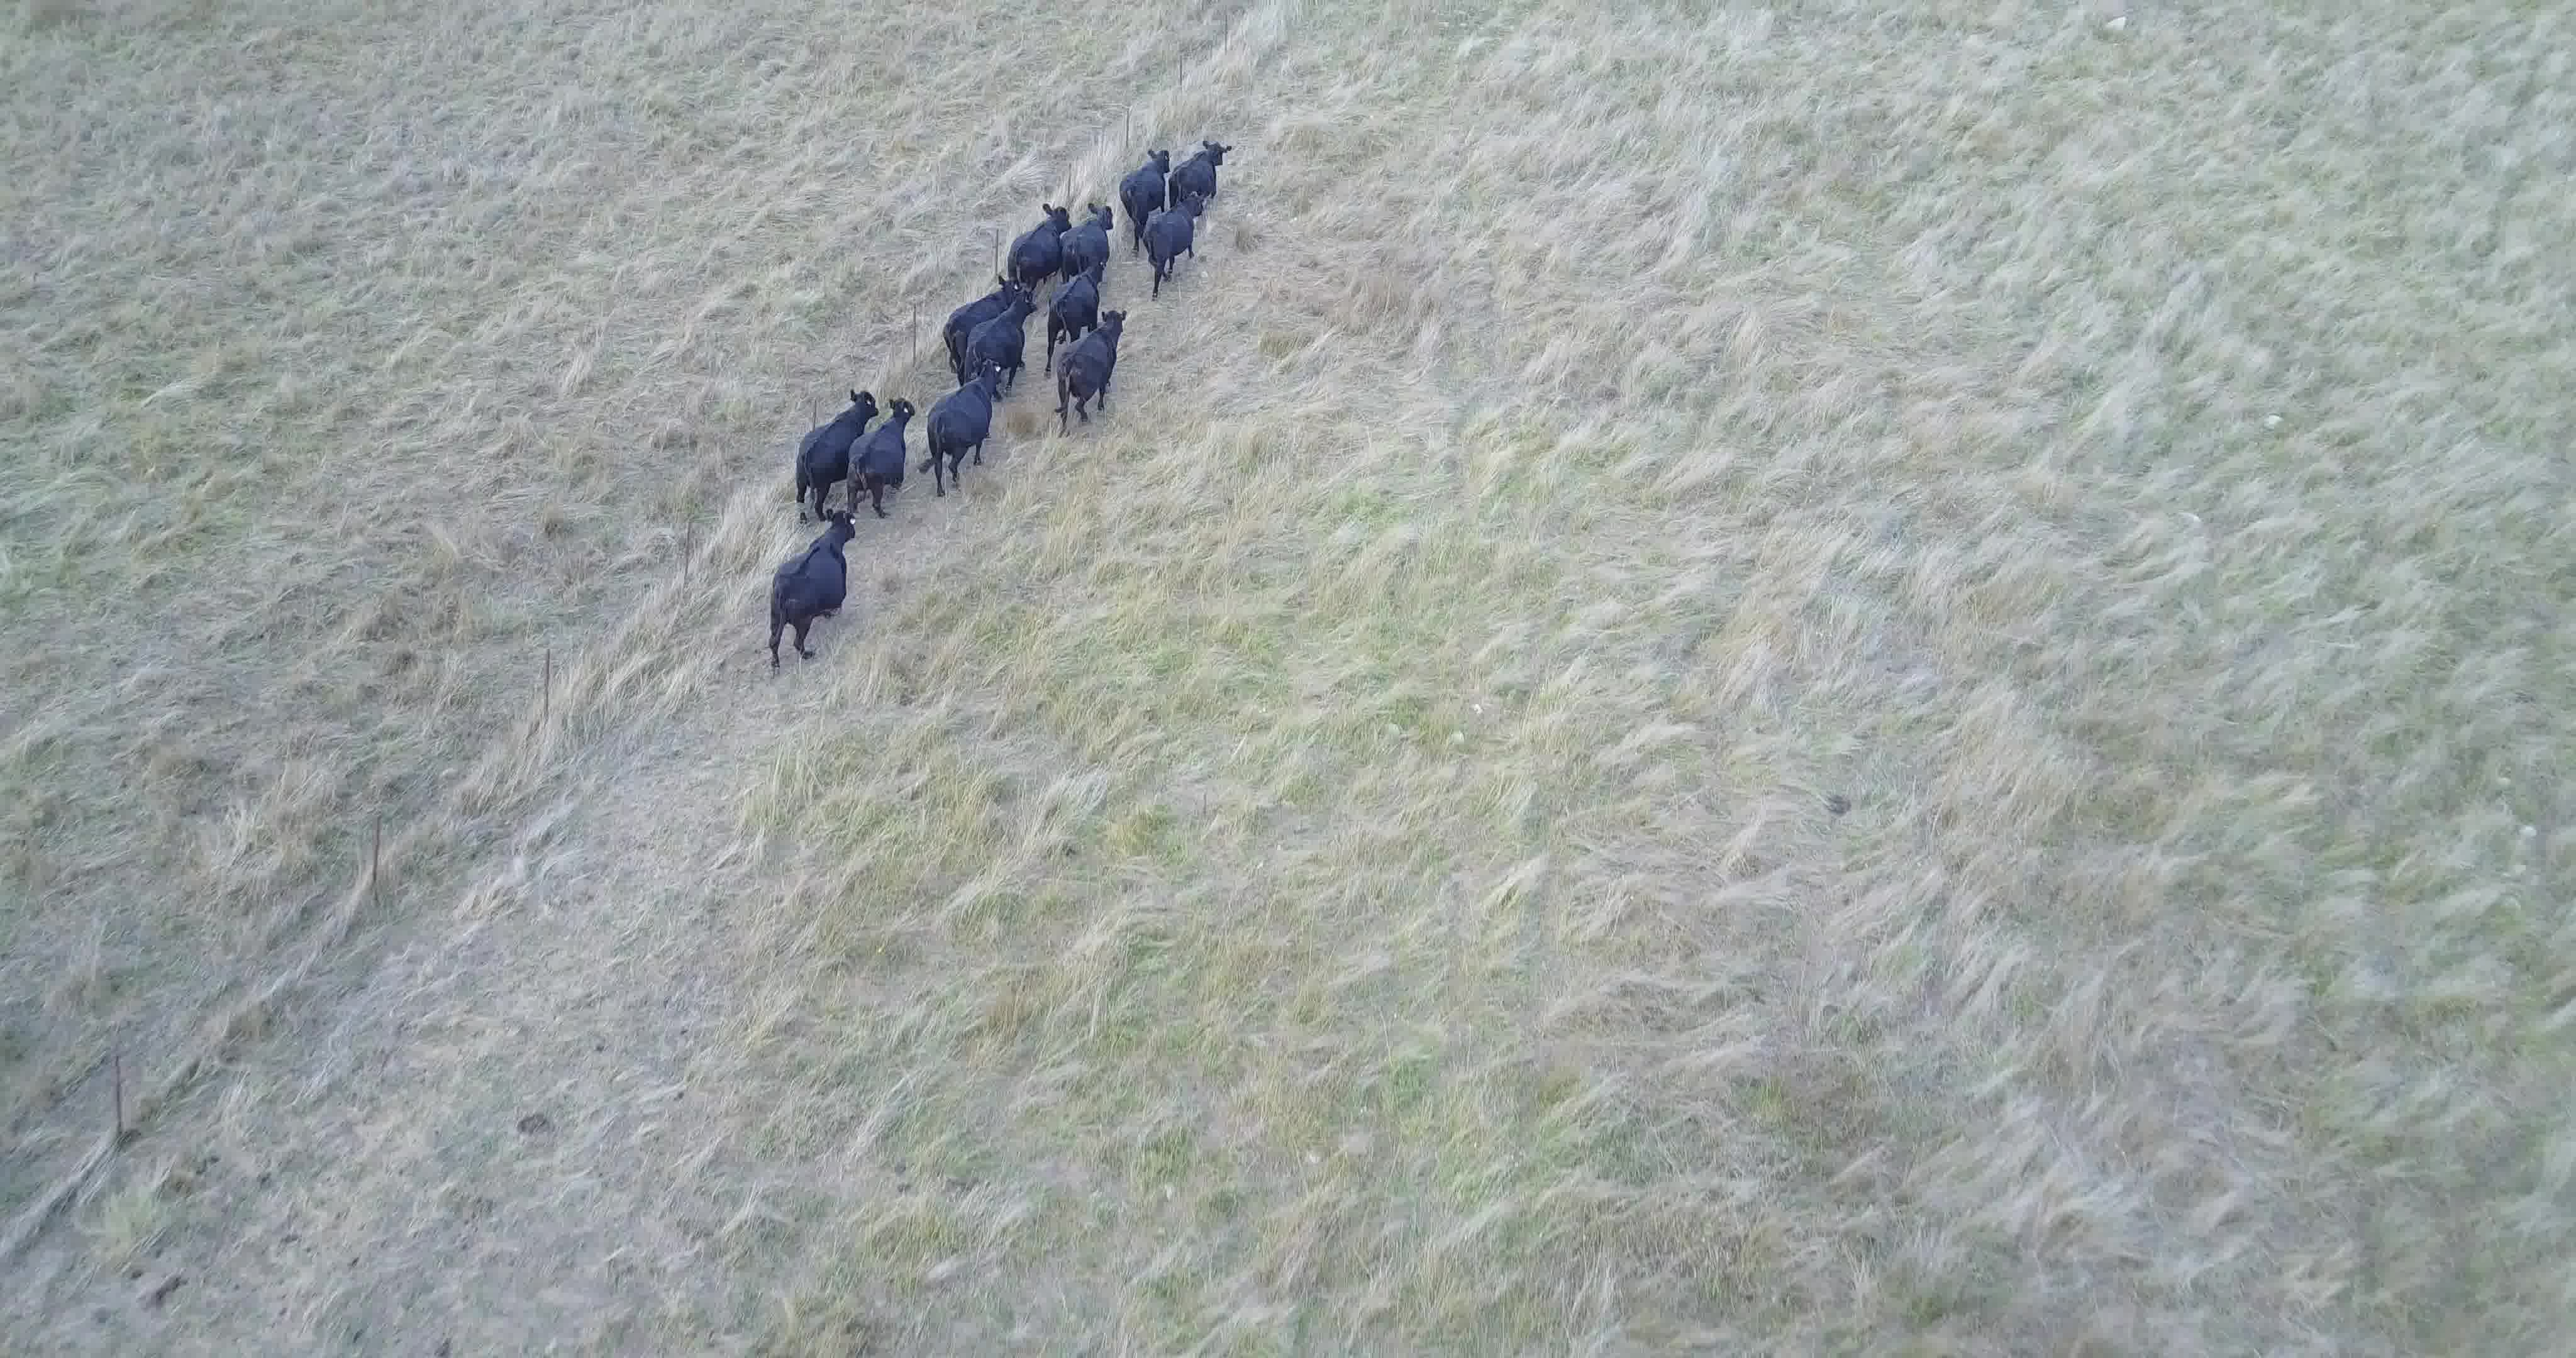cattle: (755, 506, 862, 676), (773, 383, 877, 525), (918, 354, 1005, 499), (1049, 310, 1133, 431), (845, 394, 917, 521), (971, 286, 1038, 395), (1143, 187, 1206, 296), (935, 274, 1021, 341), (1043, 254, 1102, 346), (1058, 199, 1121, 285), (1007, 201, 1067, 283), (1167, 135, 1235, 206), (1118, 141, 1169, 223)
